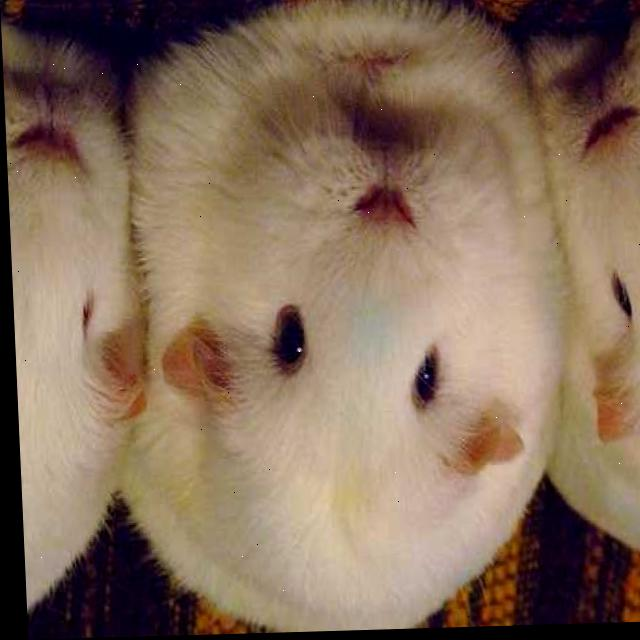guinea pig: (118, 0, 557, 637), (1, 13, 153, 626), (519, 3, 640, 592)
